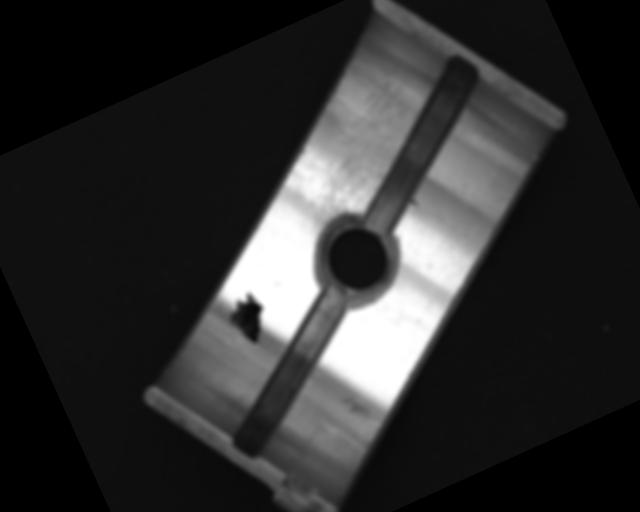blot: (221, 289, 276, 351)
bruise: (335, 386, 374, 427), (407, 196, 421, 212)
gap: (318, 52, 522, 239), (192, 287, 385, 461)
hole: (302, 206, 409, 312)
scratch: (261, 55, 455, 242)
